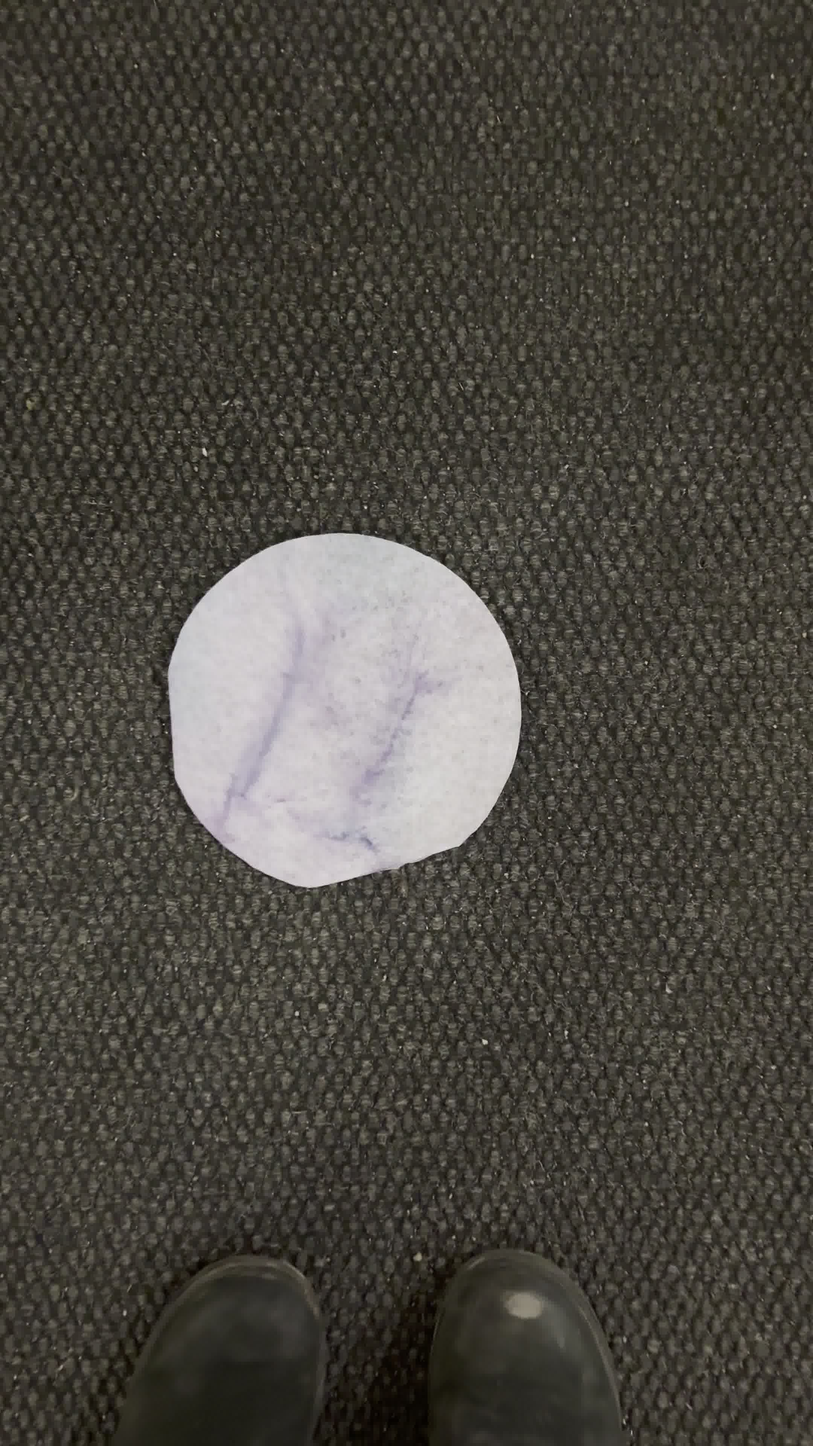Target: (162, 534, 528, 886)
